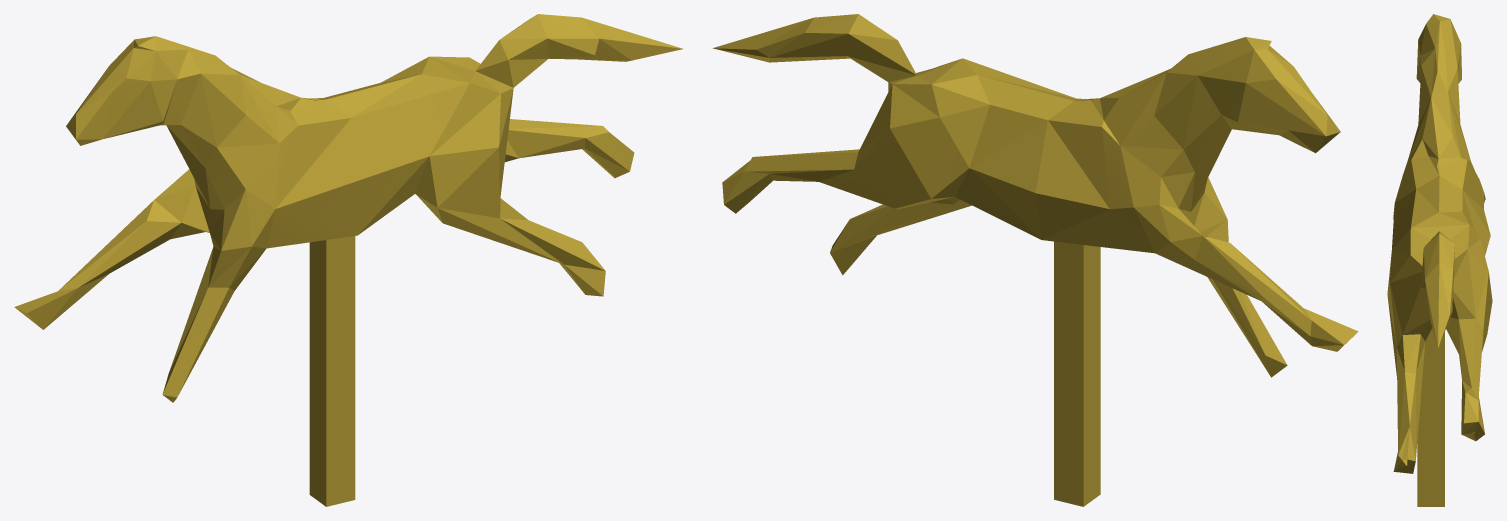
Rendered from SM_Prop_Horse_Game_01_Horse_04.obj.
3 renders of one model, left to right at view 1: azimuth 30°, elevation 25°; view 2: azimuth 150°, elevation 25°; view 3: azimuth 270°, elevation 25°, orthographic. The views are drawn at different scales.
Visible parts, largest first — view 1: SM_Prop_Horse_Game_01_Horse_04_0; view 2: SM_Prop_Horse_Game_01_Horse_04_0; view 3: SM_Prop_Horse_Game_01_Horse_04_0.
Part boxes in pixels (box(x1,y1,x2,y2)): SM_Prop_Horse_Game_01_Horse_04_0: box(14, 14, 682, 506); SM_Prop_Horse_Game_01_Horse_04_0: box(713, 14, 1358, 506); SM_Prop_Horse_Game_01_Horse_04_0: box(1387, 14, 1492, 506).
Size of the model in its own units: 0.3008 by 0.2217 by 0.0514.
Materials: 1 (1 with a texture image).
